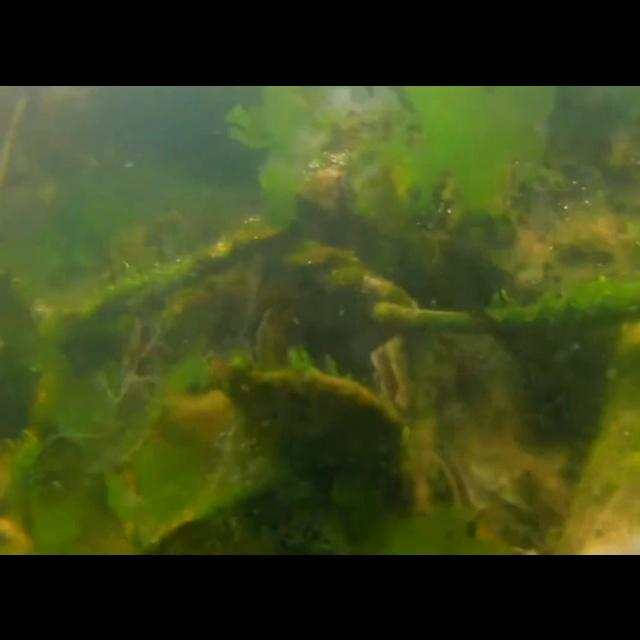Oyster-Closed: (221, 340, 389, 520)
Oyster-Open: (145, 482, 313, 554), (467, 447, 559, 535), (368, 332, 454, 422), (240, 290, 304, 370), (424, 438, 476, 520)
